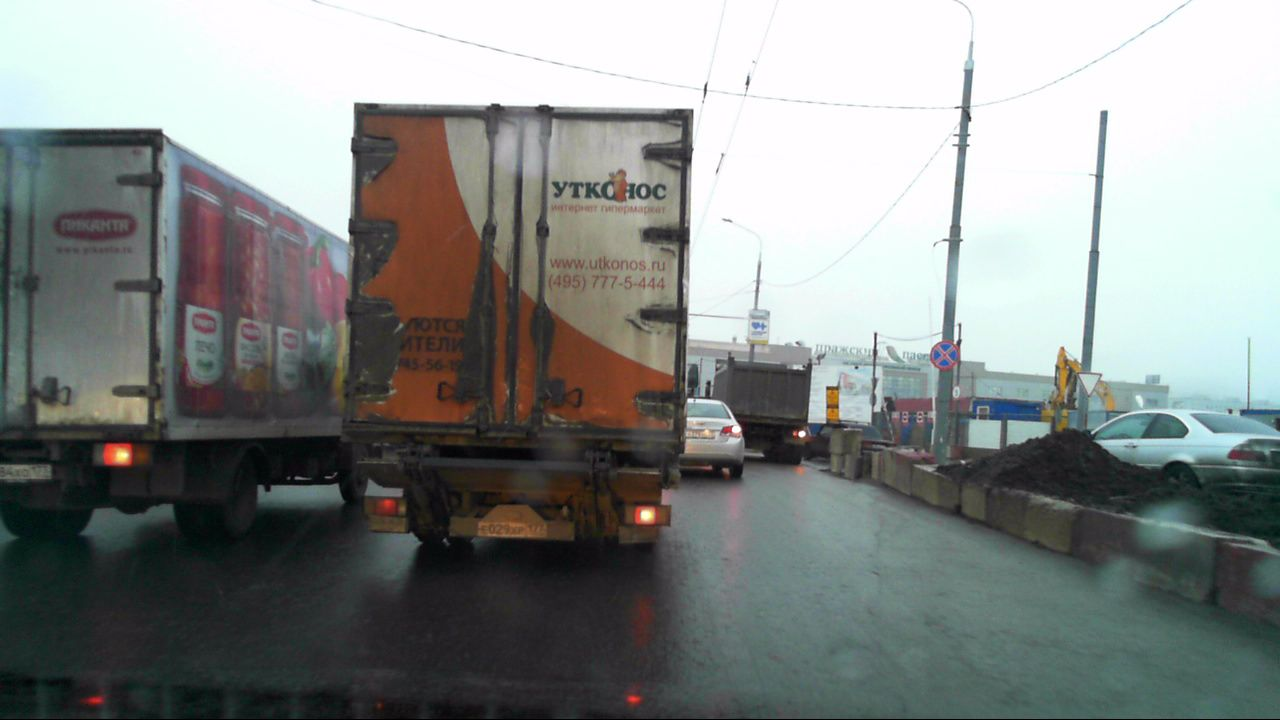No Parking: (930, 340, 960, 370)
